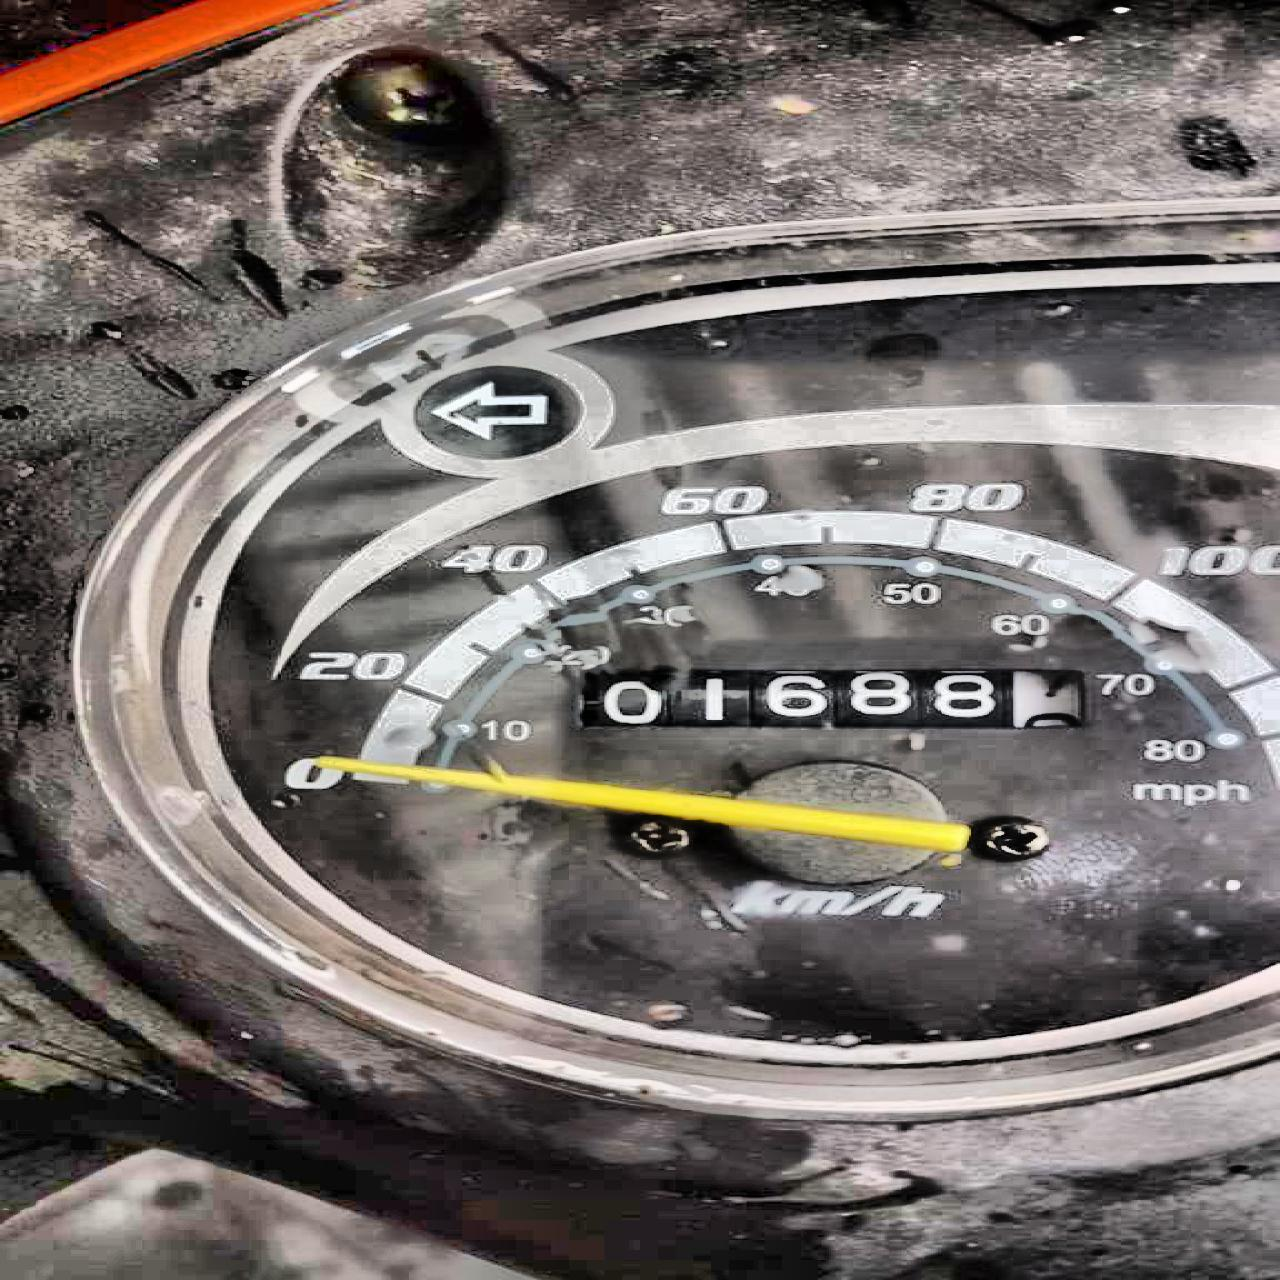0: (595, 673, 665, 729)
1: (695, 673, 737, 731)
6: (760, 672, 833, 722)
7: (1024, 668, 1080, 702)
8: (931, 673, 993, 722), (846, 672, 911, 719)
odometer: (578, 667, 1096, 733)
